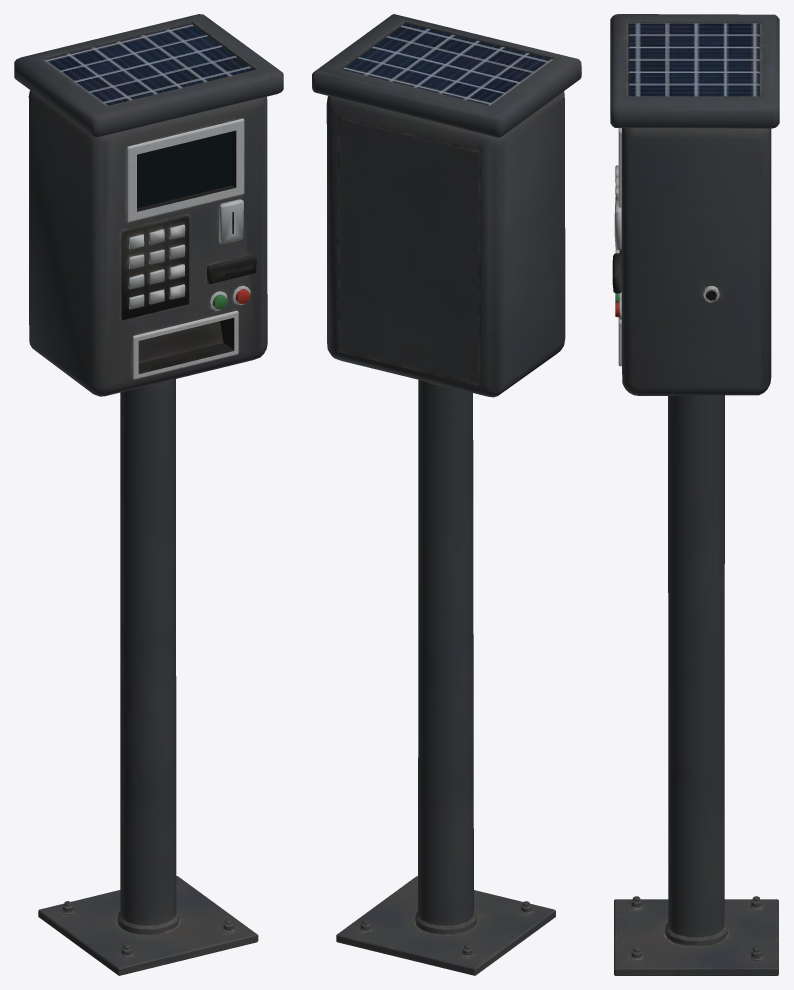
Rendered from parking-meter.glb.
The picture shows the model from 3 angles, left to right: view 1: azimuth 30°, elevation 25°; view 2: azimuth 150°, elevation 25°; view 3: azimuth 270°, elevation 25°; orthographic projection.
Visible parts, largest first — view 1: parking-meter_body, parking-meter_display_glass; view 2: parking-meter_body; view 3: parking-meter_body.
Part boxes in pixels (x1,y1,x2,y2): parking-meter_body: [14, 14, 283, 975]; parking-meter_display_glass: [137, 131, 232, 208]; parking-meter_body: [312, 14, 581, 975]; parking-meter_body: [610, 14, 779, 975].
Bounding box in the file's own units: 0.3022 × 1.3 × 0.2261.
Materials: 2 (1 with a texture image).
